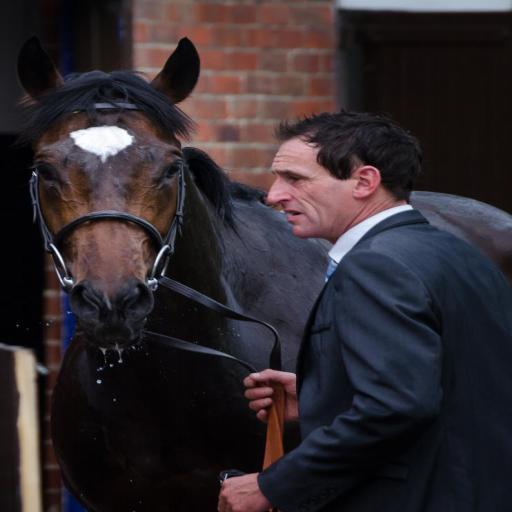horse: (8, 32, 512, 512)
